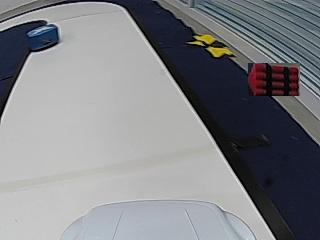prop: (28, 24, 59, 52)
